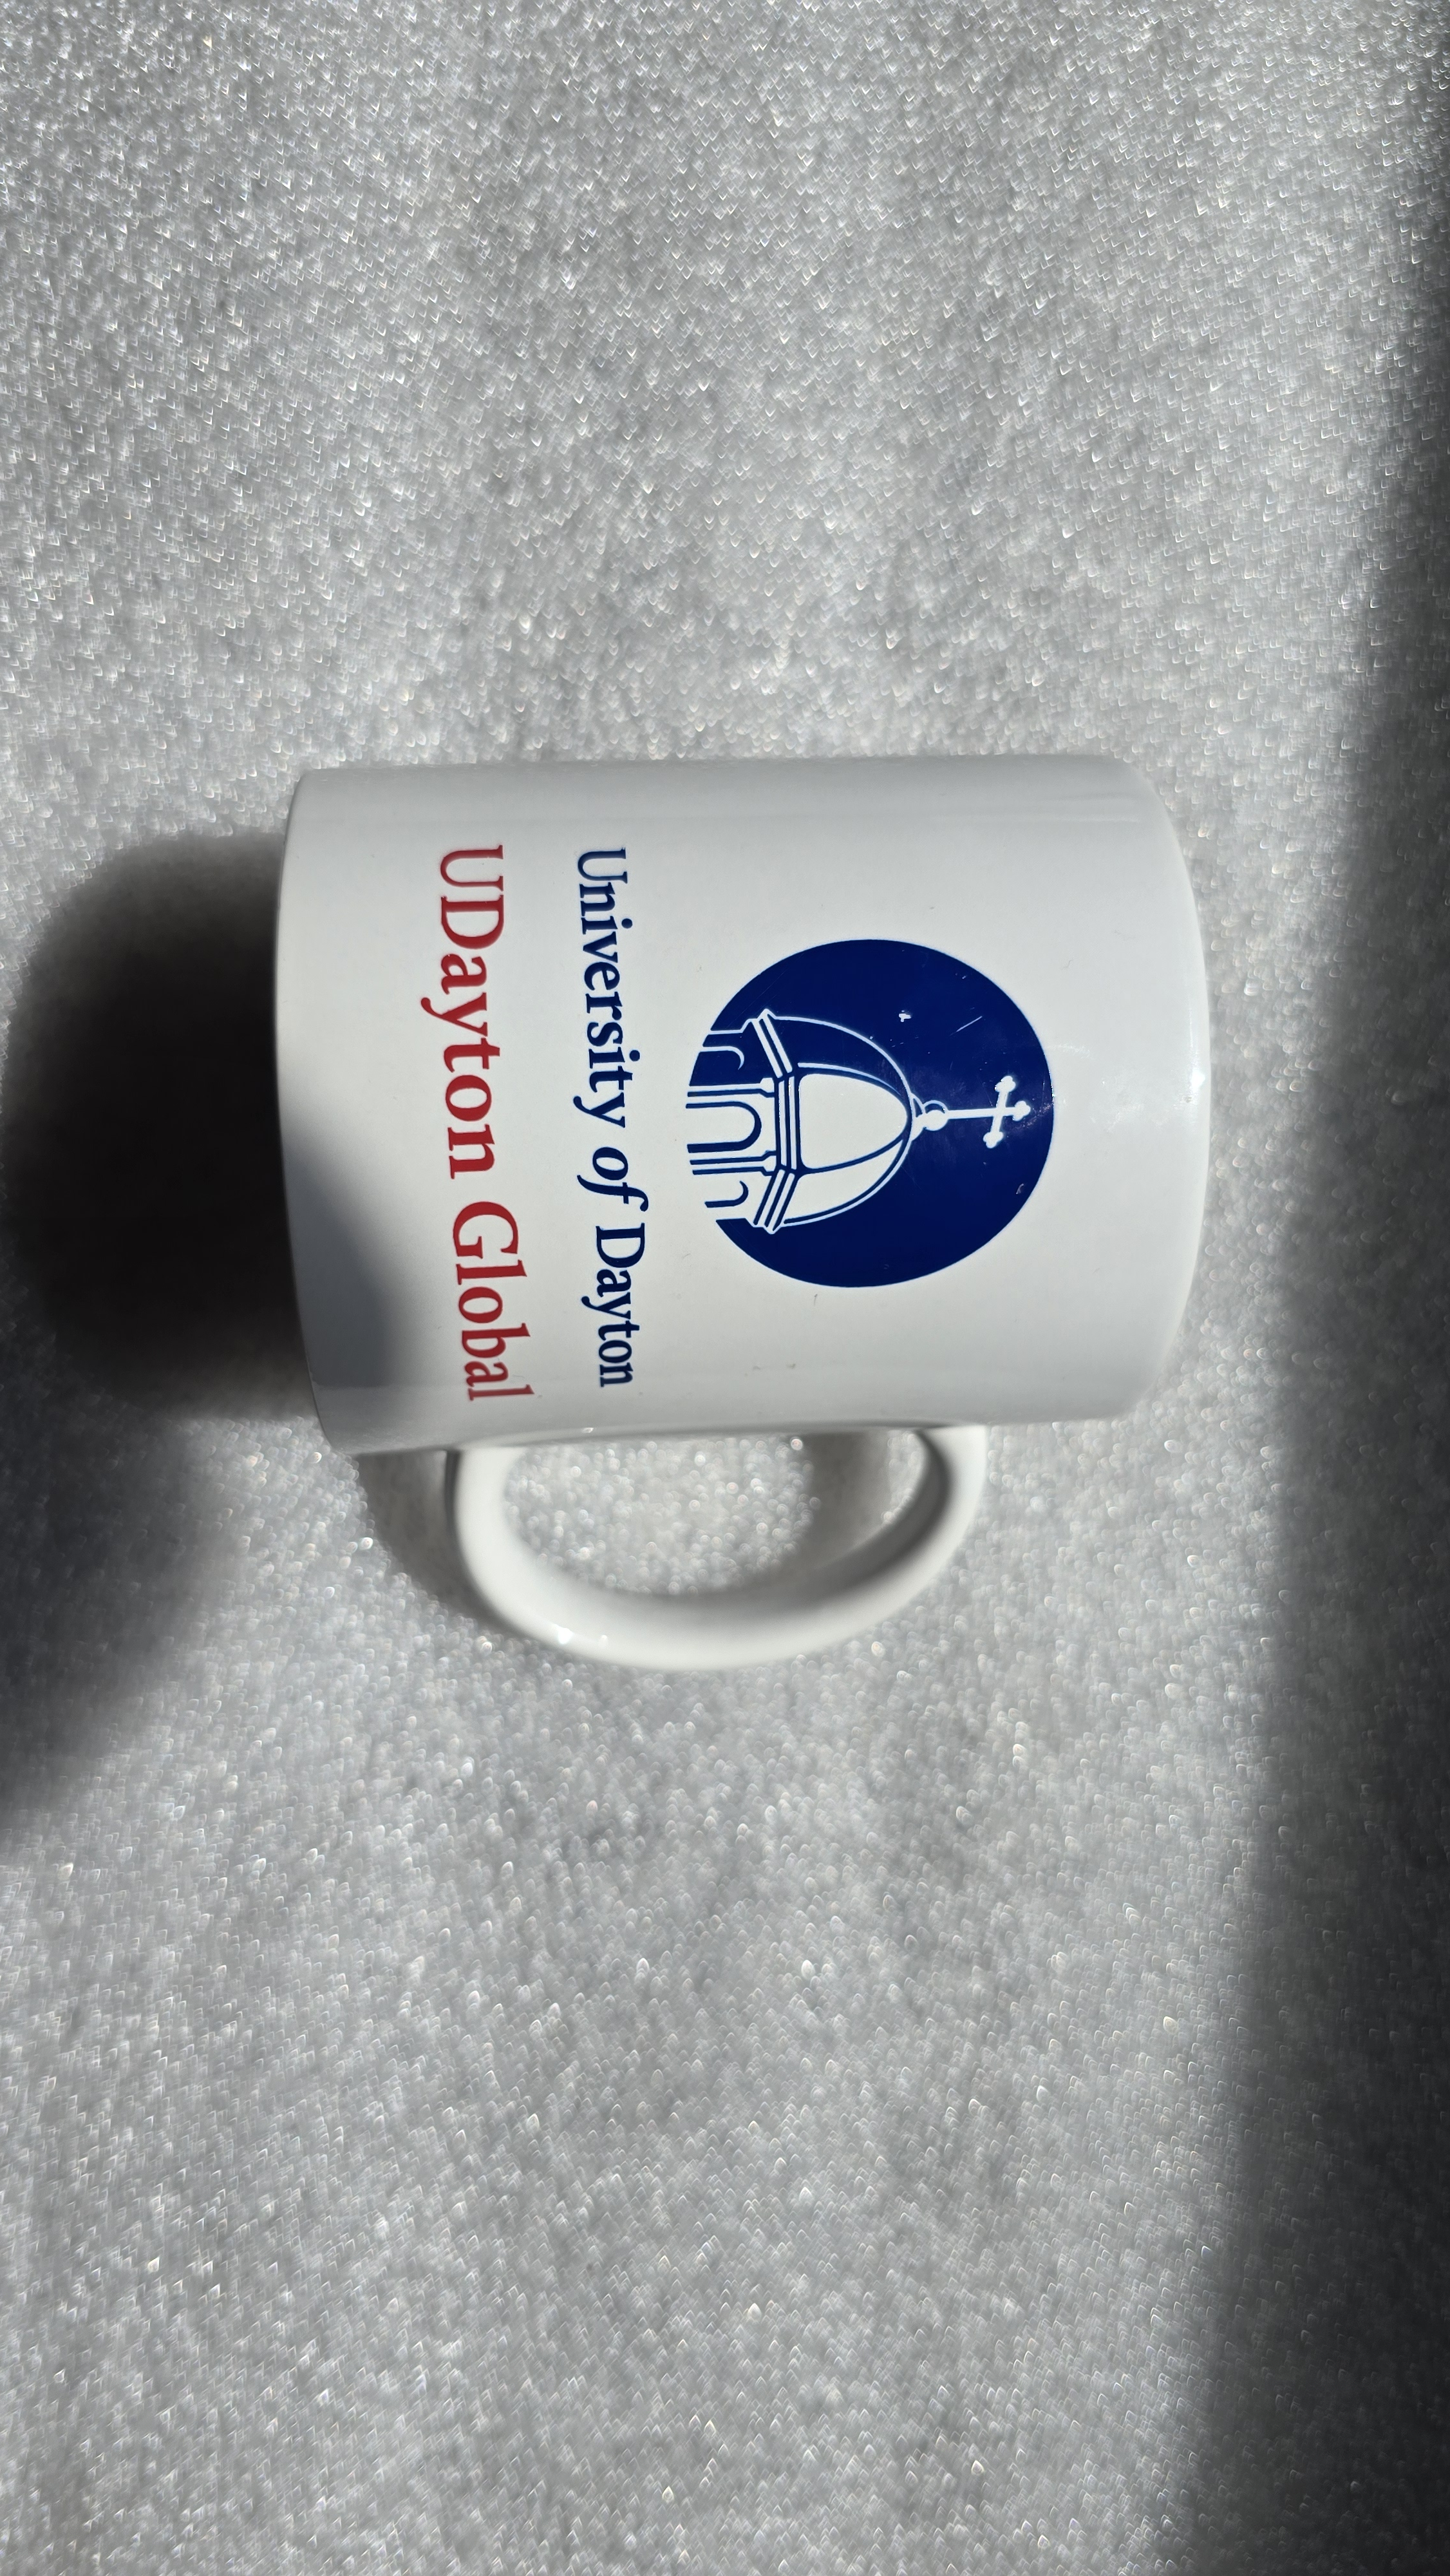mug: (242, 708, 1268, 1698)
